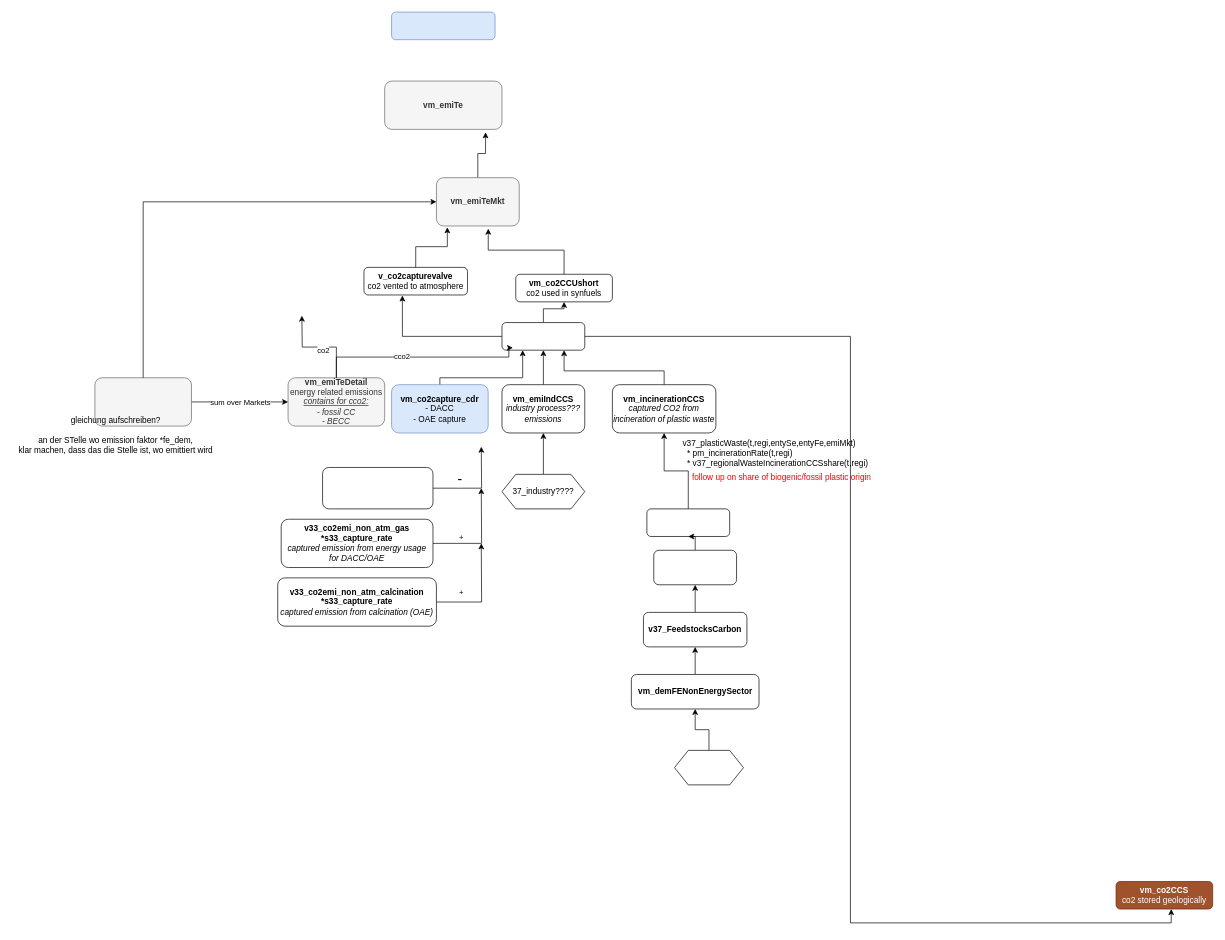
Image size: 1225x940. Some labels were removed from this diagram. The shapes that lost their labels are listed below. From the top down, each one's centre as x and y in pixels, then its label:
pixel 443 25: ATMOSPHERE
pixel 543 336: v_co2capture co2 in a tank
pixel 142 401: vm_emiTeDetailMkt ( cco2 )
pixel 377 488: vm_emiCdrTeDetail (dac) emissions captured from ambient air
pixel 688 522: v37_plasticWaste
pixel 695 567: v37_plasticCarbon
pixel 708 767: CES_IO (discuss with Jakob)
